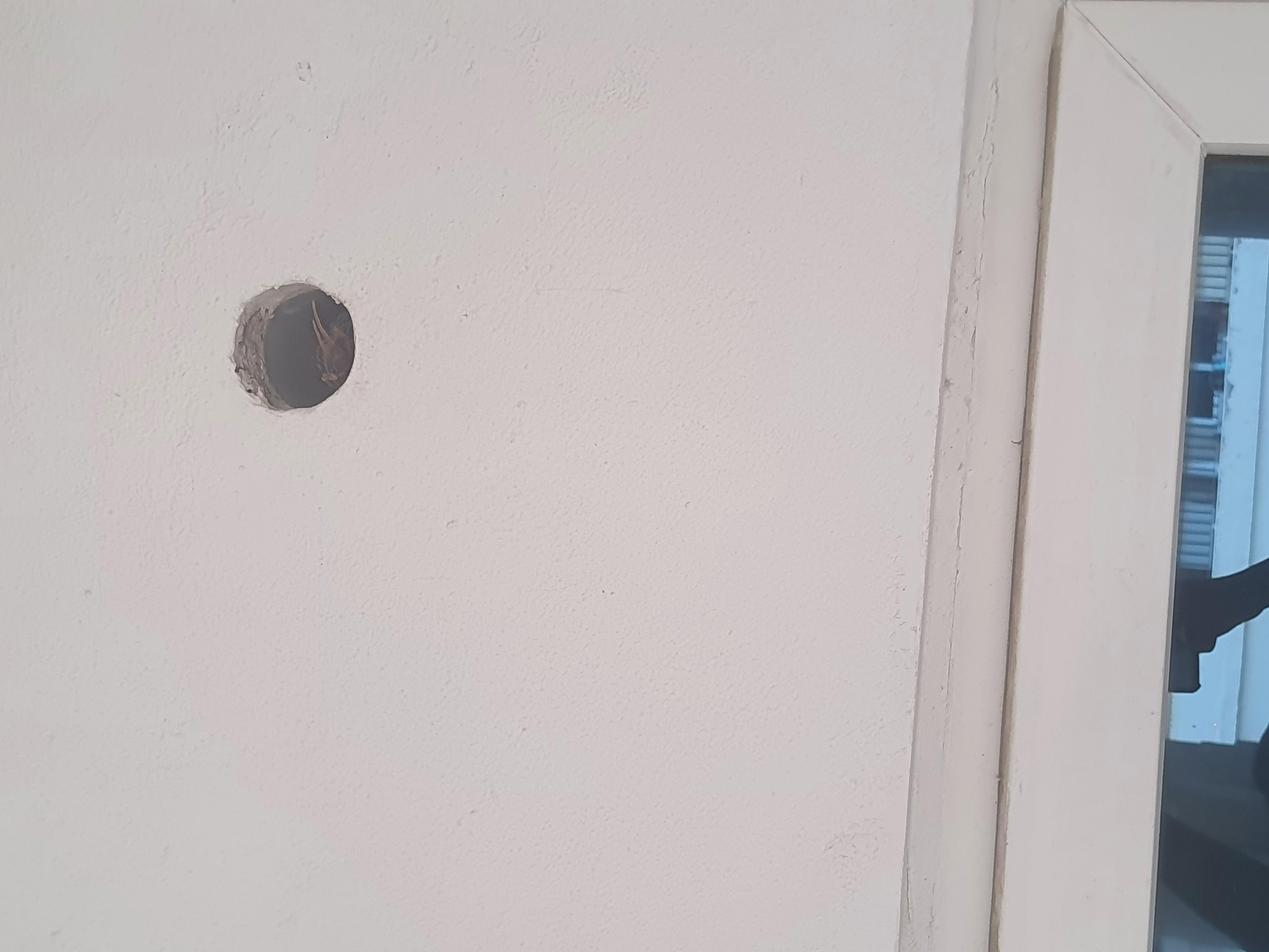cockroach: (740, 215, 886, 278)
